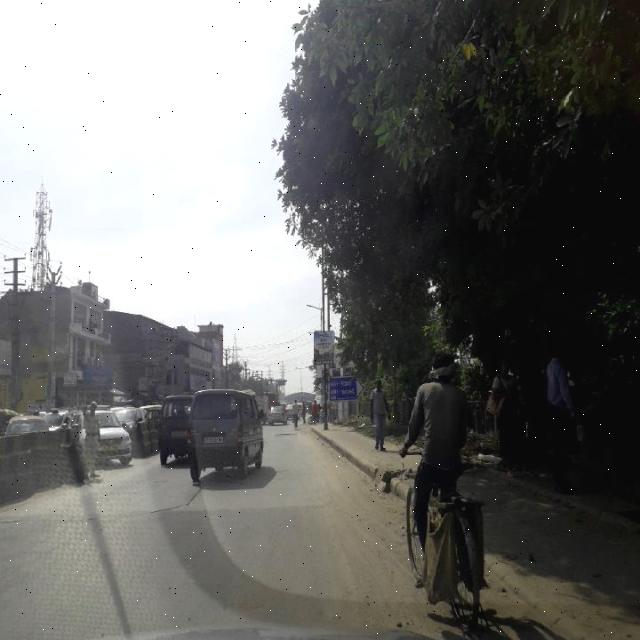D01: (172, 487, 202, 517)
